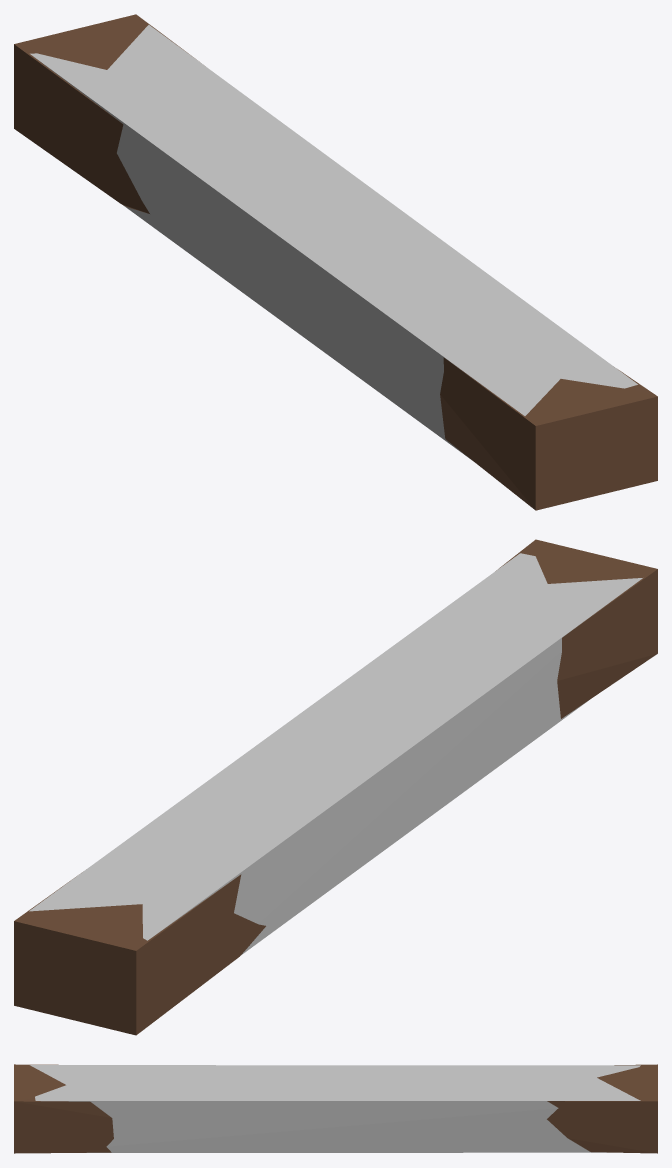
File: SM_Bld_Wall_Beam_01.fbx
3 views of the same model, one above another, from view 1: azimuth 30°, elevation 25°; view 2: azimuth 150°, elevation 25°; view 3: azimuth 270°, elevation 25° (orthographic). The views are drawn at different scales.
Visible parts, largest first — view 1: SM_Bld_Wall_Beam_01_ConvexHulls, SM_Bld_Wall_Beam_01; view 2: SM_Bld_Wall_Beam_01_ConvexHulls, SM_Bld_Wall_Beam_01; view 3: SM_Bld_Wall_Beam_01_ConvexHulls, SM_Bld_Wall_Beam_01.
Boxes of the visible parts, x1,y1,x2,y2 form: SM_Bld_Wall_Beam_01_ConvexHulls: (30, 25, 637, 458); SM_Bld_Wall_Beam_01: (14, 14, 657, 510); SM_Bld_Wall_Beam_01_ConvexHulls: (29, 553, 642, 955); SM_Bld_Wall_Beam_01: (14, 539, 657, 1035); SM_Bld_Wall_Beam_01_ConvexHulls: (30, 1065, 640, 1152); SM_Bld_Wall_Beam_01: (14, 1064, 657, 1153).
Bounding box in the file's own units: 33.81 × 250 × 22.37.
Materials: 2 (1 with a texture image).
